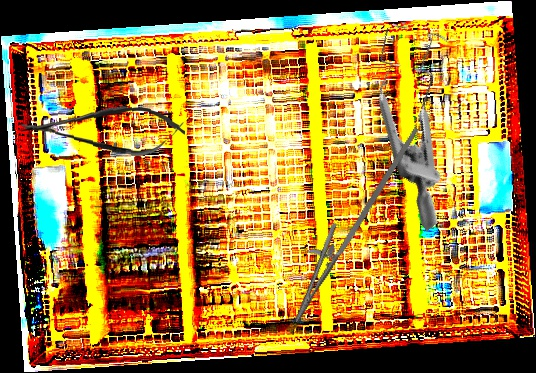Micro Scissor: (19, 99, 187, 159)
Needle Holder: (278, 108, 420, 335)
Speculum: (314, 3, 532, 232)
